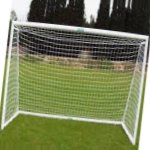goals: (2, 19, 149, 145)
